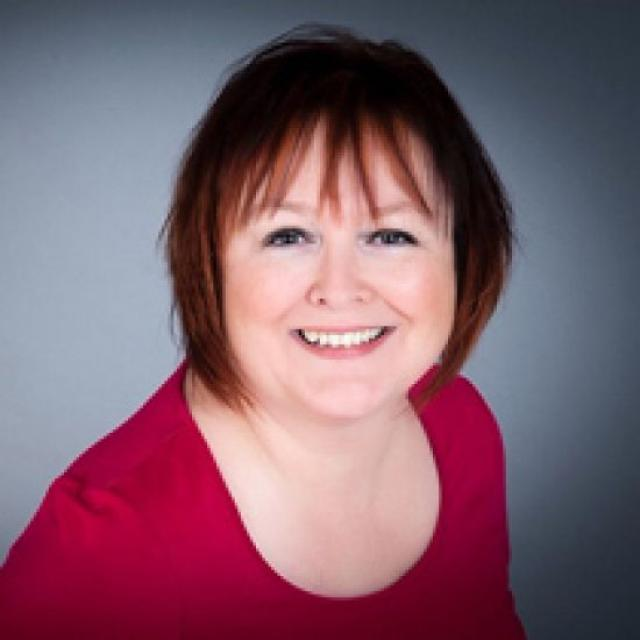mobile_phonerotation: (0, 21, 534, 638)
